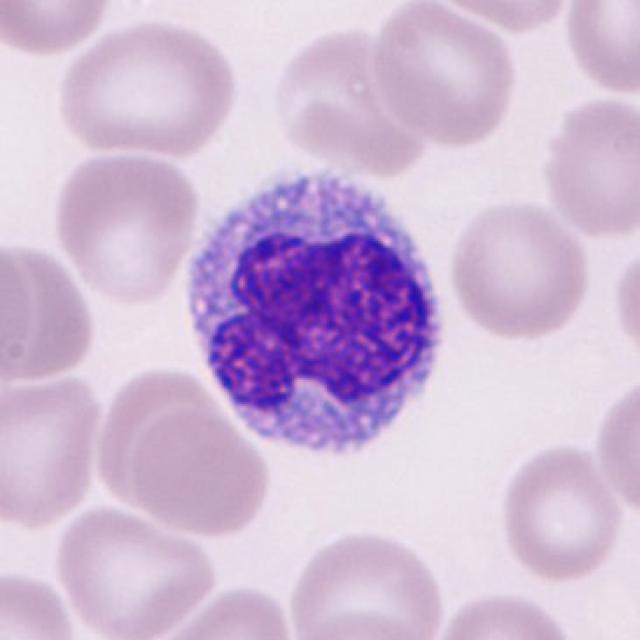Monocyte: (177, 154, 458, 473)
RBC: (51, 16, 245, 161), (49, 146, 203, 307), (49, 501, 222, 640), (367, 0, 521, 146), (268, 23, 420, 170), (444, 196, 596, 343), (124, 406, 275, 539), (495, 437, 628, 585), (284, 524, 450, 640), (91, 361, 215, 513), (0, 364, 107, 532), (537, 90, 638, 243), (0, 239, 100, 387), (142, 579, 297, 640), (428, 586, 580, 640), (560, 0, 638, 97), (591, 370, 640, 520), (0, 0, 119, 59), (0, 565, 84, 640), (0, 234, 38, 386), (434, 0, 575, 35), (290, 607, 427, 640), (608, 241, 640, 364)
